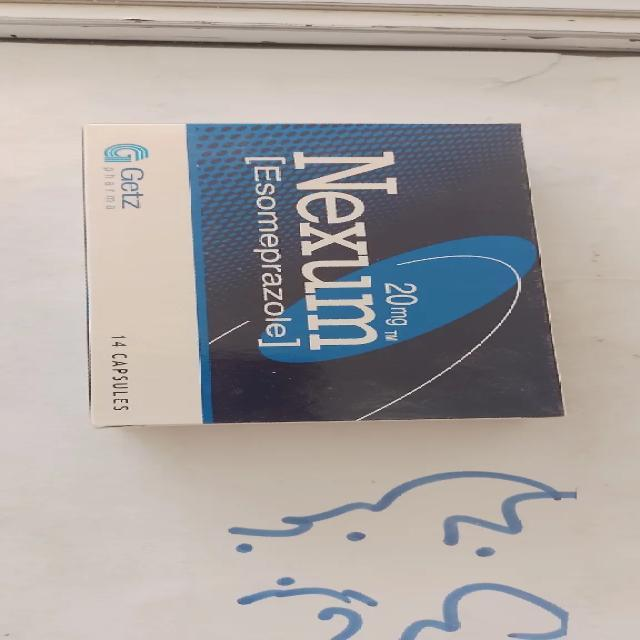drug-name: (291, 147, 400, 356)
